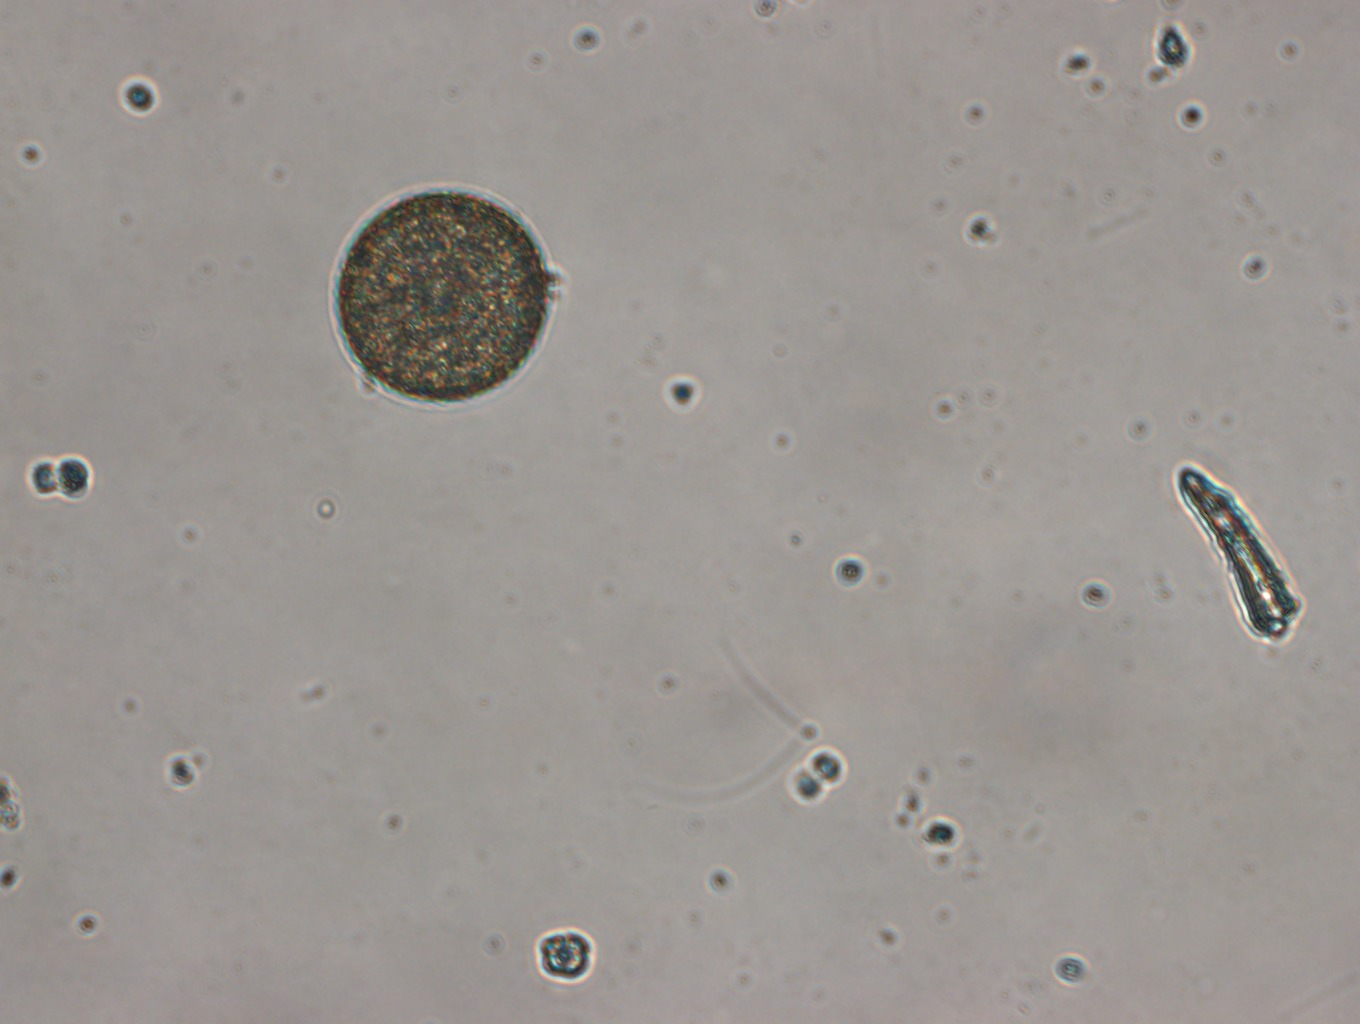coscinodiscus: (329, 181, 555, 410)
